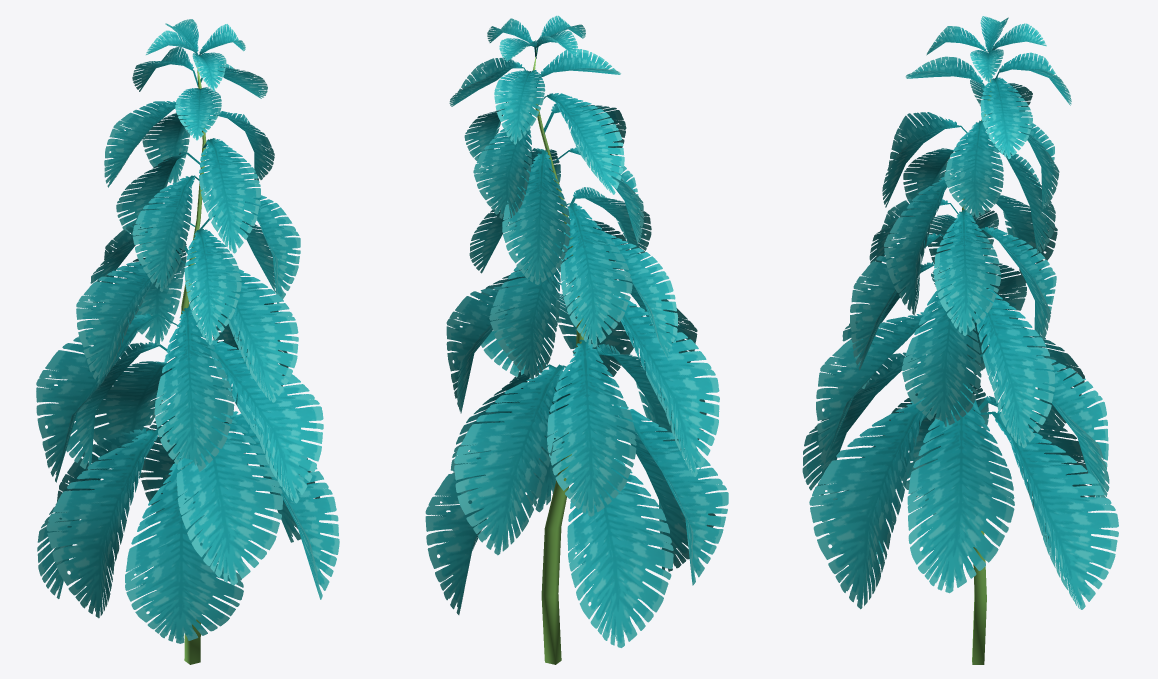
File: SM_ENV_plant_ancient_03_01.fbx
3 views of the same model, side by side, from view 1: azimuth 30°, elevation 25°; view 2: azimuth 150°, elevation 25°; view 3: azimuth 270°, elevation 25° (orthographic). The views are drawn at different scales.
Visible parts, largest first — view 1: SM_ENV_plant_ancient_03_01_LOD0; view 2: SM_ENV_plant_ancient_03_01_LOD0; view 3: SM_ENV_plant_ancient_03_01_LOD0.
Part boxes in pixels (box(x1,y1,x2,y2)): SM_ENV_plant_ancient_03_01_LOD0: box(36, 19, 339, 664); SM_ENV_plant_ancient_03_01_LOD0: box(425, 15, 728, 664); SM_ENV_plant_ancient_03_01_LOD0: box(802, 16, 1118, 664).
Size of the model in its own units: 127 by 255 by 133.
